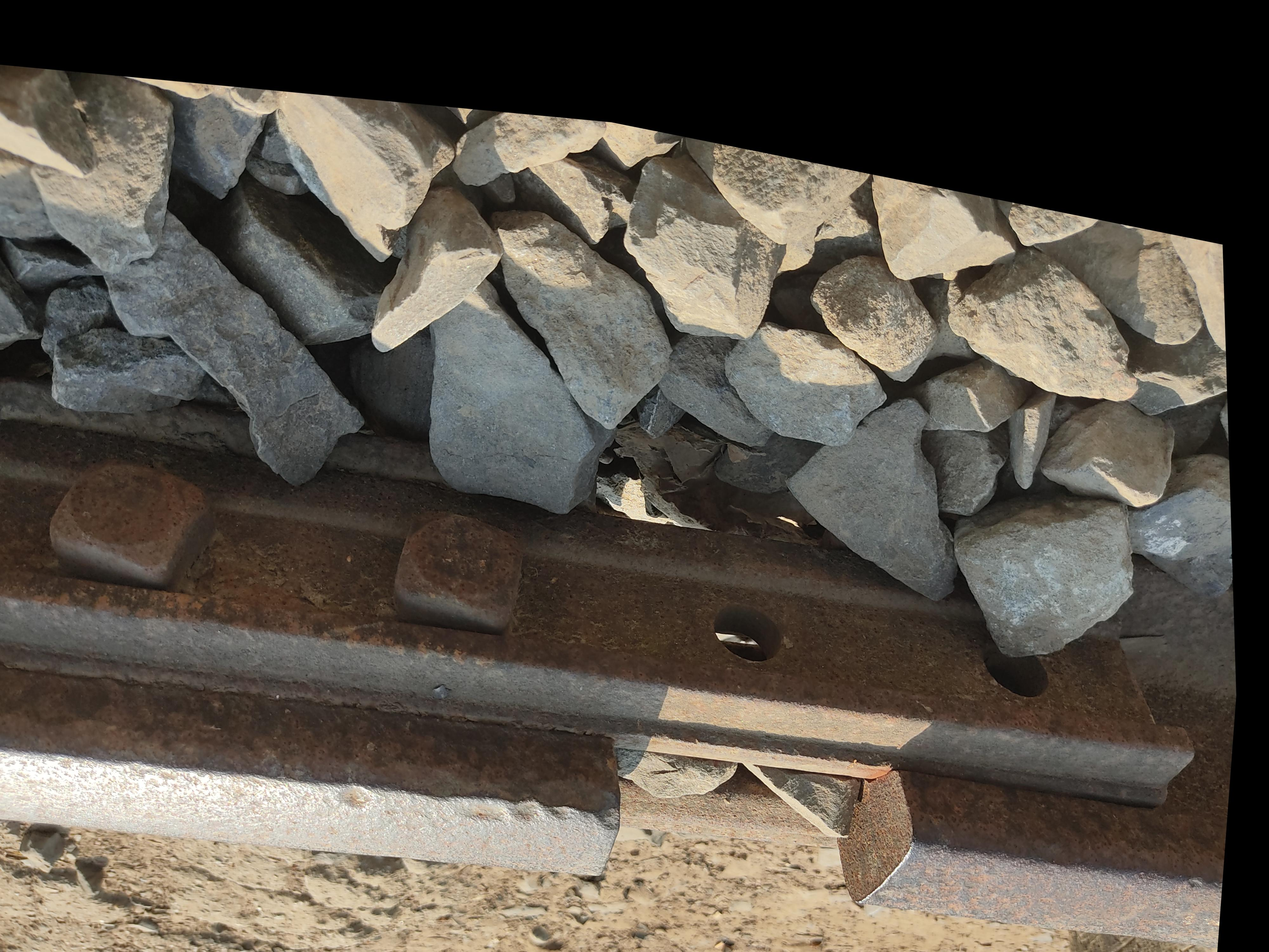person: (274, 792, 497, 952), (270, 678, 490, 810)
